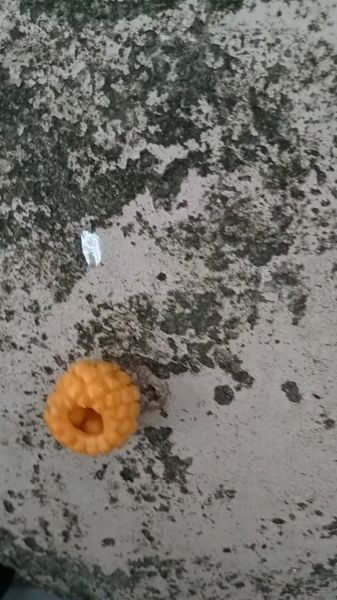eggs: (39, 351, 142, 460)
